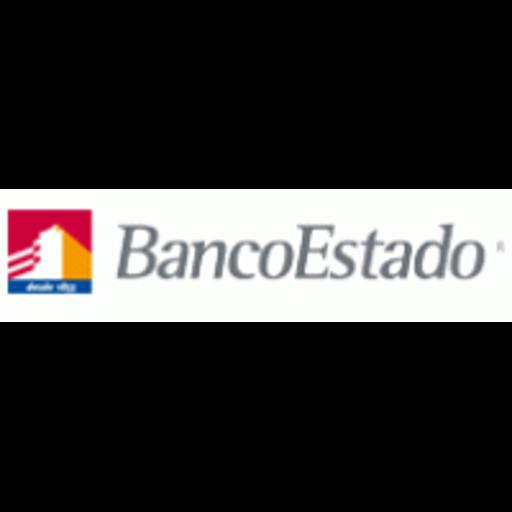Banco del Estado de Chile: (0, 189, 512, 322)
